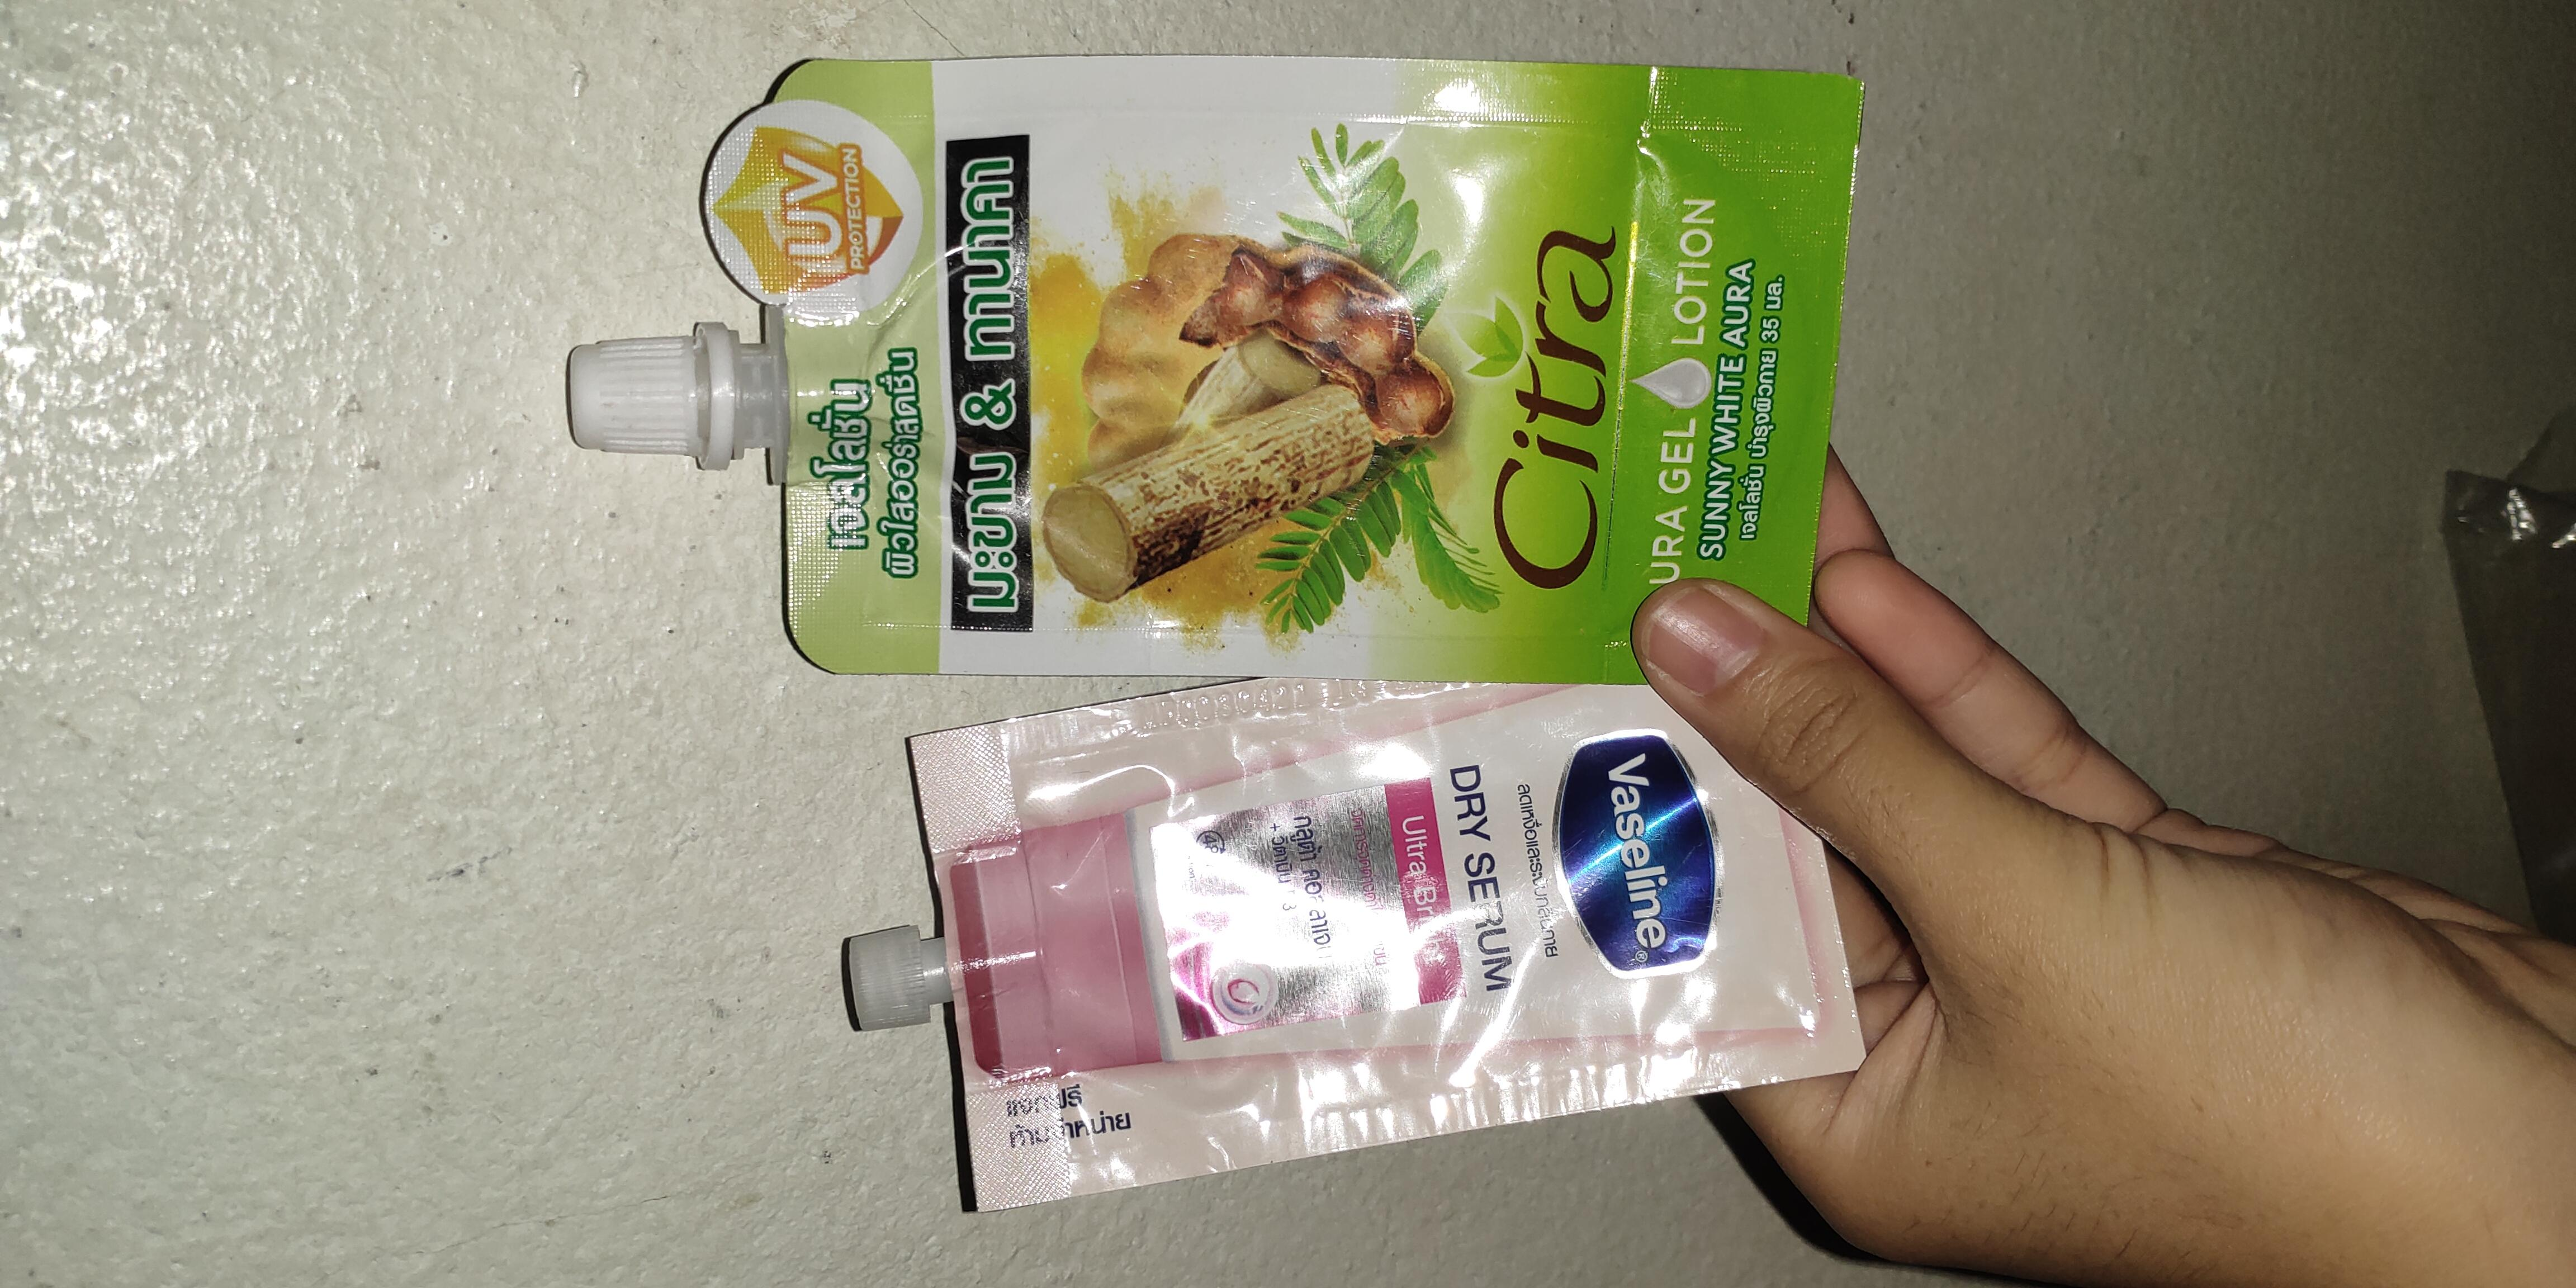plastic: (1148, 250, 2576, 969), (92, 411, 1249, 938)
